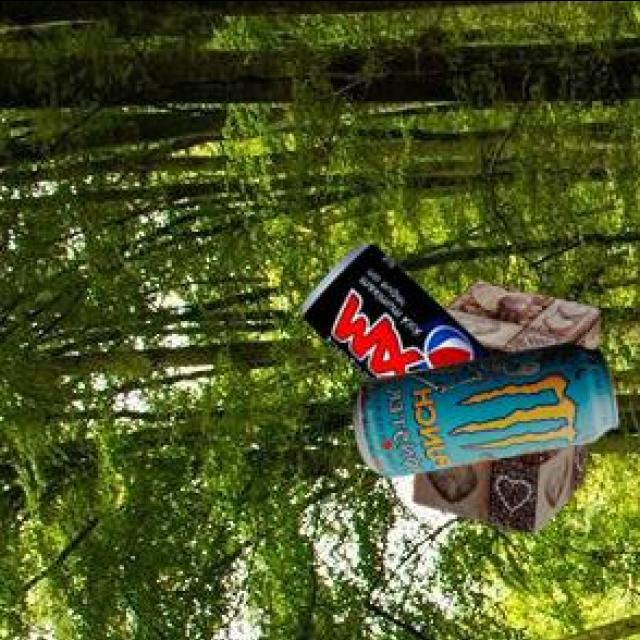logam: (410, 278, 598, 528), (349, 339, 615, 473), (299, 241, 489, 376)
